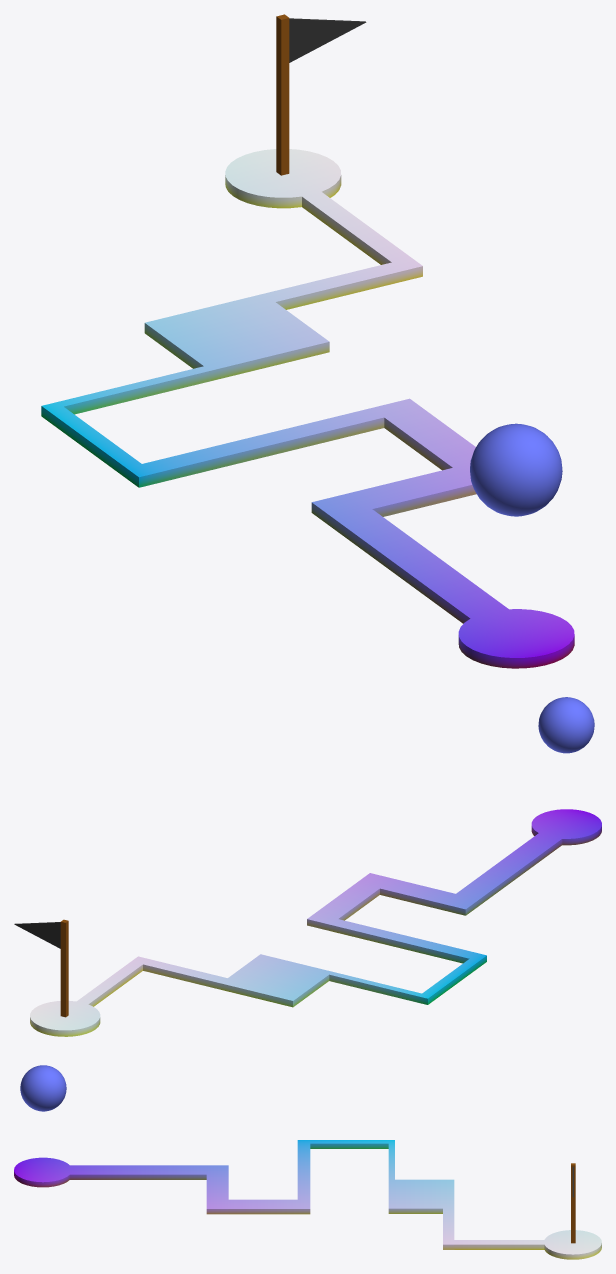
Rendered from level1.glb.
3 views of the same model, one above another, from view 1: azimuth 30°, elevation 25°; view 2: azimuth 150°, elevation 25°; view 3: azimuth 270°, elevation 25° (orthographic). The views are drawn at different scales.
Parts seen in each view (by area): view 1: Cylinder, Player, Cube; view 2: Cylinder, Player, Cube; view 3: Cylinder, Player, Cube.
Part boxes in pixels (x1=…): Cylinder: x1=41, y1=149, x2=574, y2=668; Player: x1=470, y1=423, x2=562, y2=516; Cube: x1=276, y1=14, x2=366, y2=175; Cylinder: x1=30, y1=809, x2=601, y2=1036; Player: x1=538, y1=697, x2=594, y2=753; Cube: x1=14, y1=919, x2=68, y2=1017; Cylinder: x1=14, y1=1140, x2=601, y2=1259; Player: x1=20, y1=1065, x2=66, y2=1111; Cube: x1=571, y1=1163, x2=575, y2=1243.
Bounding box in the file's own units: 12.51 × 5.12 × 25.32.
Materials: 4 (1 with a texture image).
